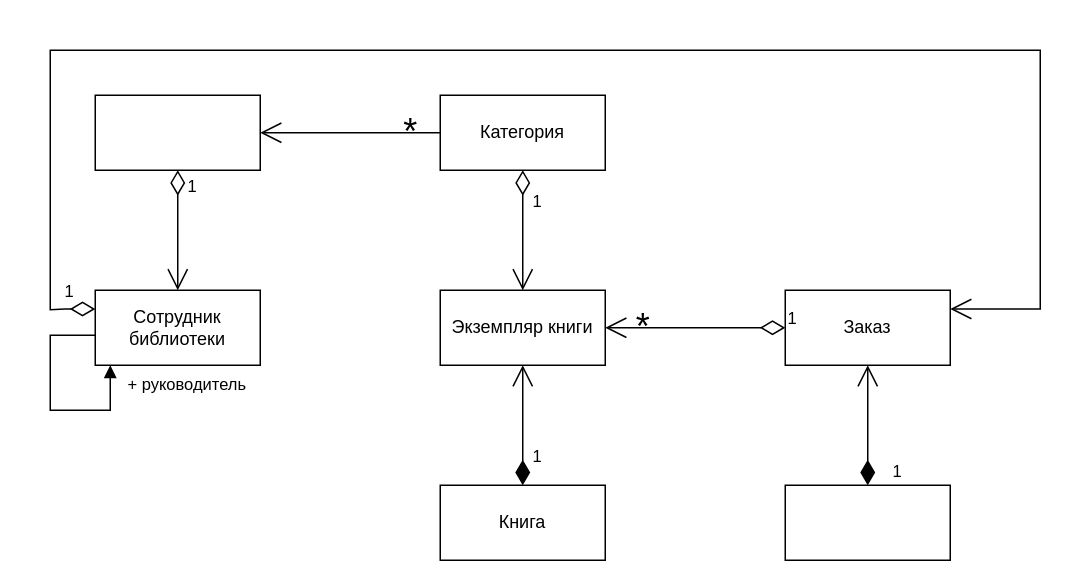
The diagram is 1092 pixels wide and 587 high, and some of its shapes have lost their labels. The shapes that lost their labels are listed below. From the top down, each one's centre as x and y in pixels, then its label:
At pixel 177 132: "Читальный зал".
At pixel 867 522: "Читатель".
